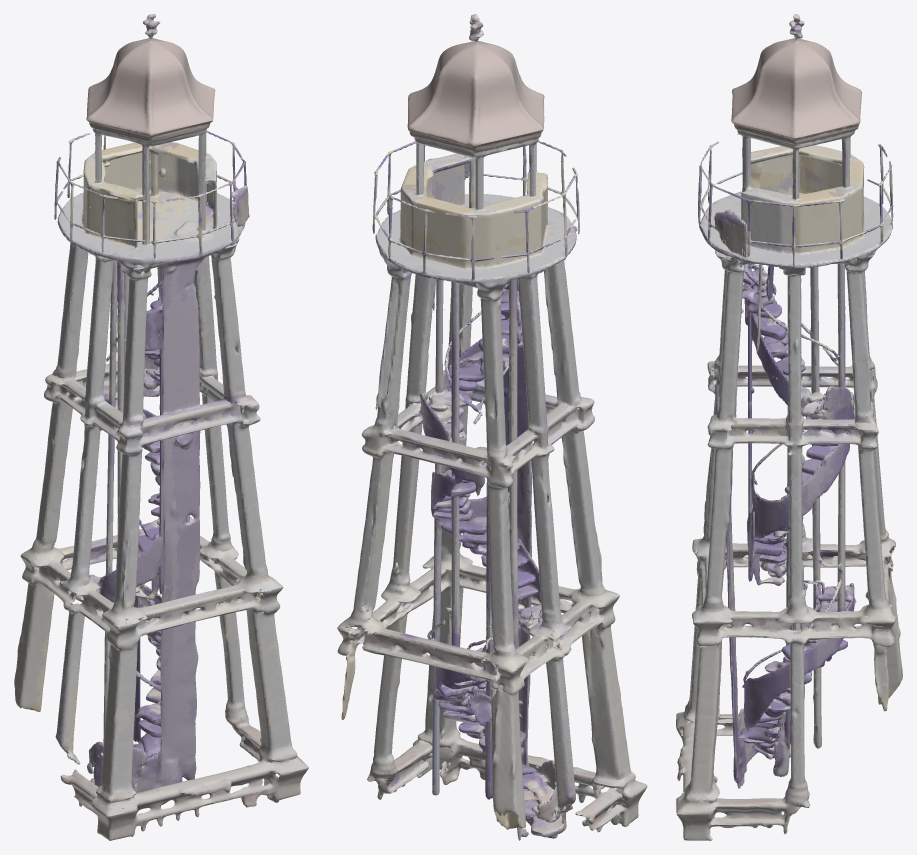
The model's file is asset.glb.
3 views of the same model, side by side, from view 1: azimuth 30°, elevation 25°; view 2: azimuth 150°, elevation 25°; view 3: azimuth 270°, elevation 25° (orthographic). The views are drawn at different scales.
Visible parts, largest first — view 1: Object_14, Object_16, Object_11, Object_10, Object_15, Object_3, Object_2, Object_12, Object_17, Object_5, Object_4, Object_13 (+4 smaller); view 2: Object_14, Object_11, Object_15, Object_10, Object_3, Object_2, Object_17, Object_5, Object_13, Object_7, Object_16, Object_12 (+4 smaller); view 3: Object_14, Object_11, Object_3, Object_10, Object_15, Object_13, Object_2, Object_17, Object_7, Object_5, Object_16, Object_12 (+4 smaller).
Boxes of the visible parts, x1,y1,x2,y2 form: Object_14: (34,15,293,831); Object_16: (55,20,248,791); Object_11: (14,14,296,840); Object_10: (20,21,305,840); Object_15: (48,14,277,755); Object_3: (40,16,304,828); Object_2: (31,17,308,833); Object_12: (55,17,252,826); Object_17: (51,21,279,775); Object_5: (34,144,260,754); Object_4: (66,16,236,753); Object_13: (54,18,251,825); Object_14: (341,18,631,813); Object_11: (339,20,638,827); Object_15: (346,14,614,793); Object_10: (337,15,641,832); Object_3: (348,17,642,836); Object_2: (339,18,647,836); Object_17: (363,20,613,832); Object_5: (343,157,607,811); Object_13: (372,23,599,837); Object_7: (379,147,570,838); Object_16: (374,20,598,839); Object_12: (373,20,597,840); Object_14: (687,18,894,807); Object_11: (684,16,902,840); Object_3: (678,17,891,821); Object_10: (679,17,896,840); Object_15: (692,14,890,763); Object_13: (699,20,892,782); Object_2: (676,16,894,829); Object_17: (697,22,892,809); Object_7: (698,189,882,785); Object_5: (698,145,888,710); Object_16: (698,22,893,775); Object_12: (697,20,892,788).
Bounding box in the file's own units: 0.2771 × 1 × 0.2622.
